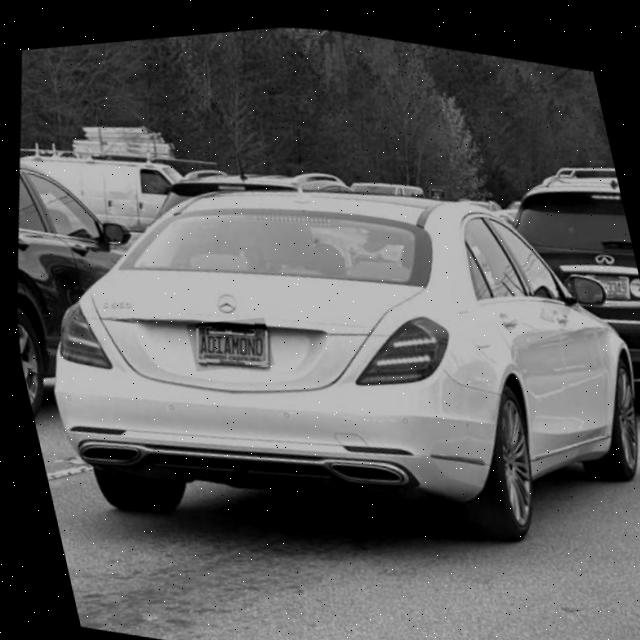LicensePlate: (189, 321, 263, 360)
